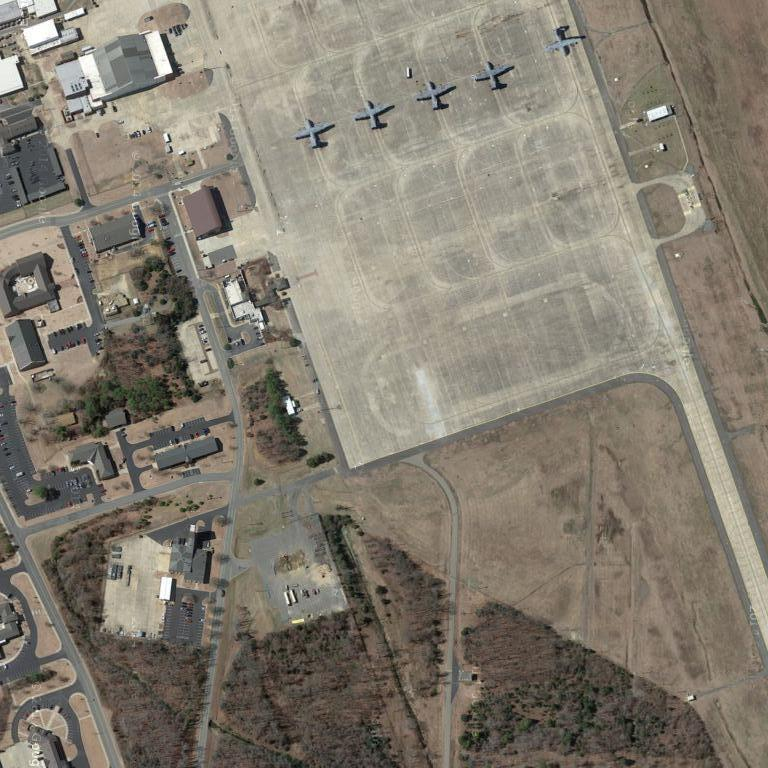C-130: (541, 21, 589, 65), (472, 55, 517, 97), (291, 114, 336, 156), (411, 76, 459, 115), (350, 97, 397, 134)
